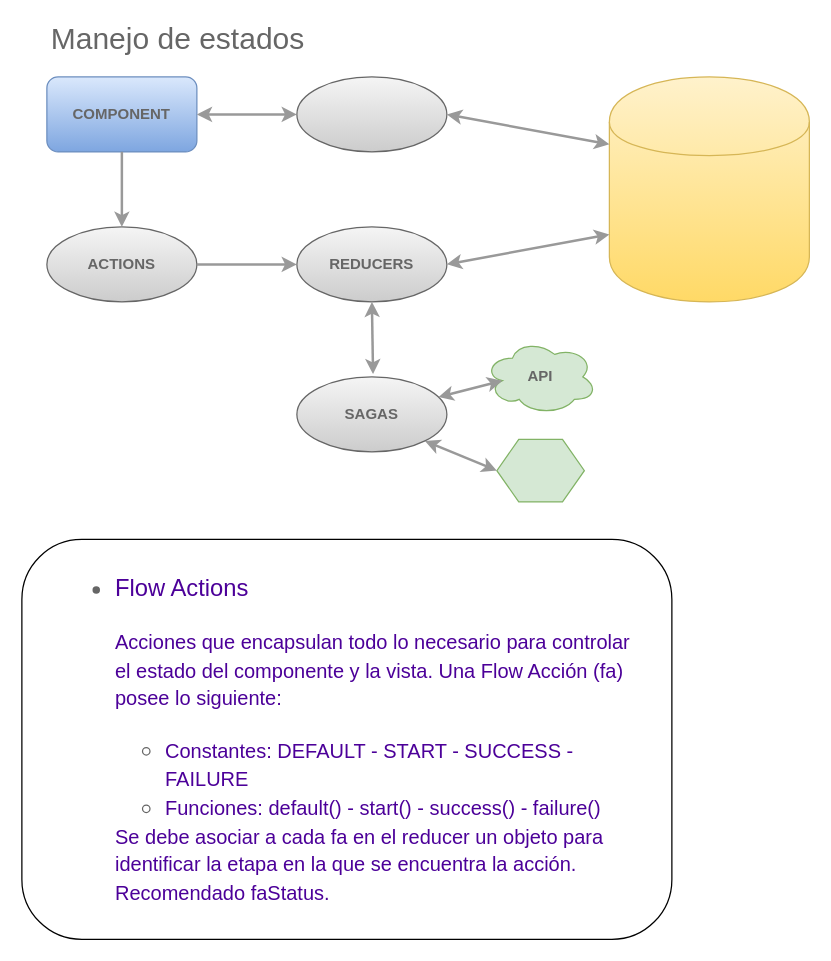
Some shapes in this 831 by 961 pixel diagram are drawn without their labels. Each missing label, with the box of its shape:
ASYNC: (496, 438, 584, 502)
SELECTORS: (296, 76, 447, 152)
STATE: (608, 76, 809, 302)
